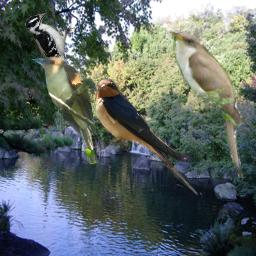Cuckoo: (164, 27, 246, 180), (30, 55, 100, 169)
Swallow: (94, 78, 199, 196)
Woodpecker: (25, 13, 75, 91)
